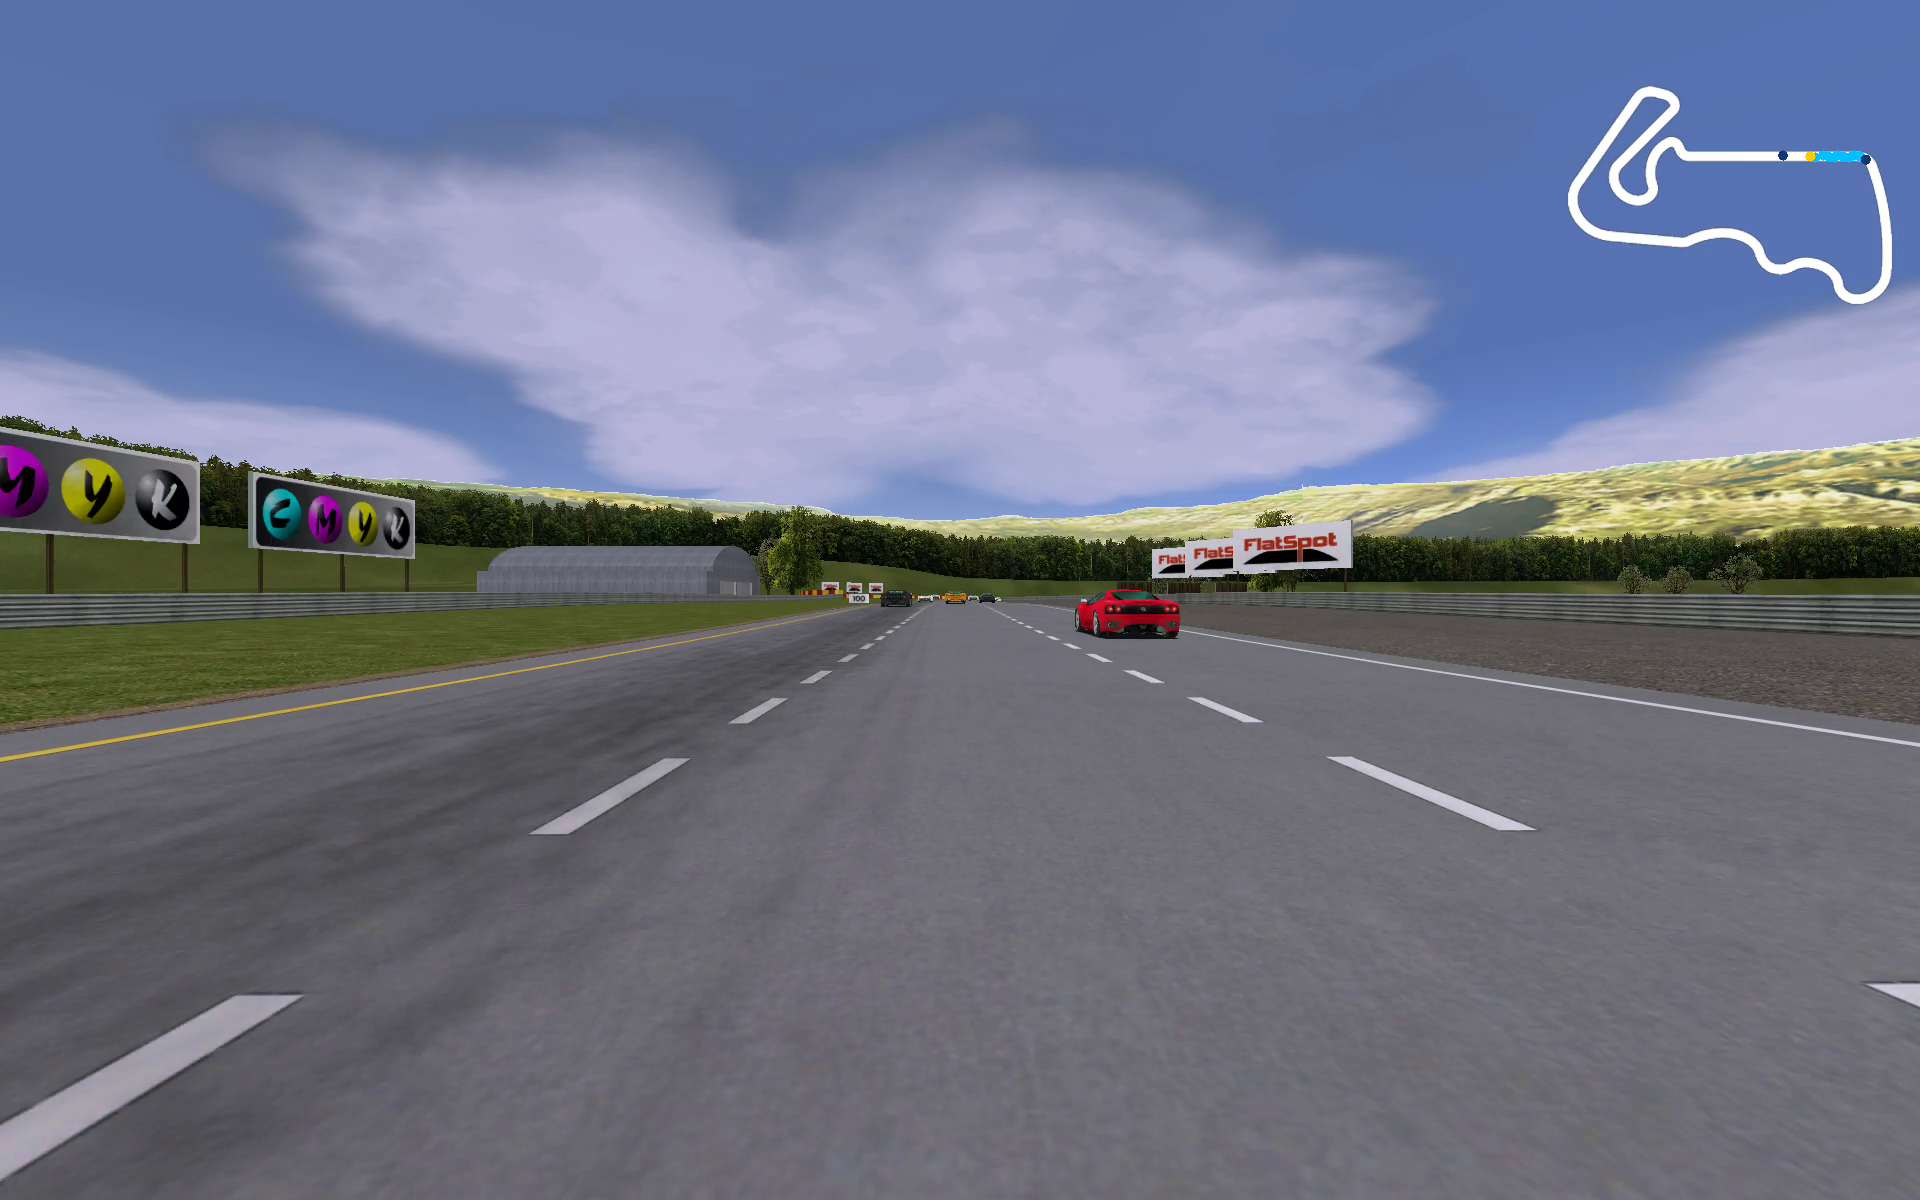car: (1073, 586, 1189, 640), (878, 588, 912, 607), (941, 590, 970, 606), (979, 592, 994, 603), (918, 592, 934, 601)
